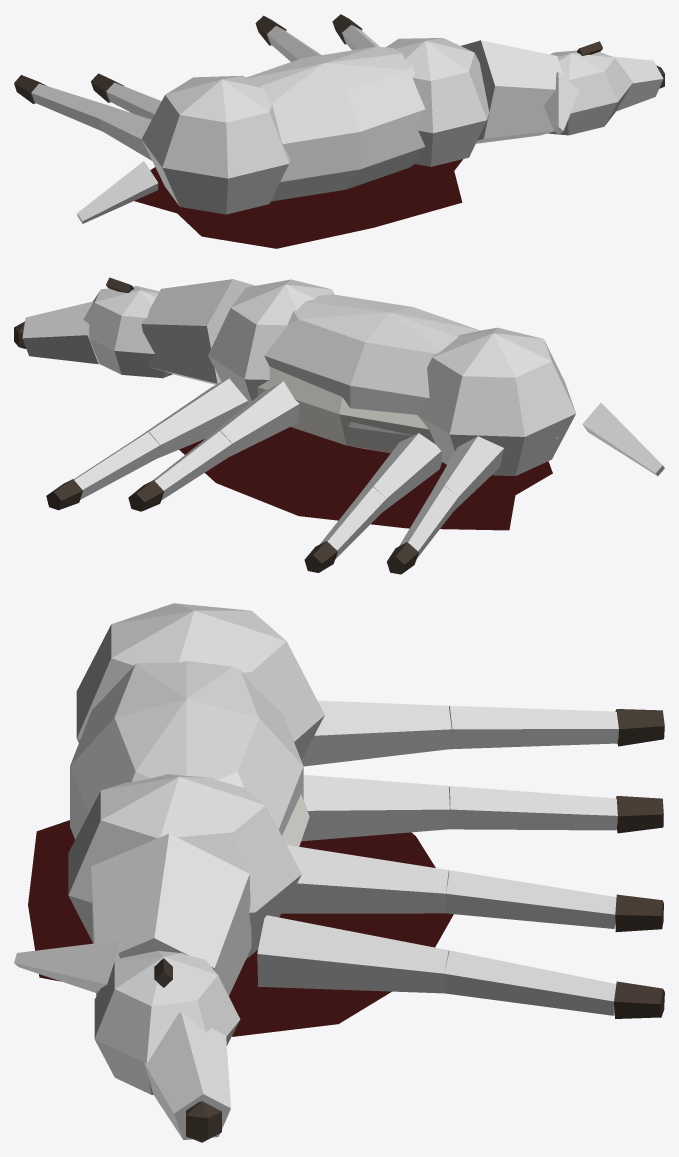
Rendered from carcass_quadruped.gltf.
3 views of the same model, one above another, from view 1: azimuth 30°, elevation 25°; view 2: azimuth 150°, elevation 25°; view 3: azimuth 270°, elevation 25° (orthographic). The views are drawn at different scales.
Visible parts, largest first — view 1: carcass_quadruped; view 2: carcass_quadruped; view 3: carcass_quadruped.
Boxes of the visible parts, left/top/right/bottom form: carcass_quadruped: left=14, top=14, right=664, bottom=248; carcass_quadruped: left=14, top=277, right=664, bottom=574; carcass_quadruped: left=14, top=603, right=664, bottom=1142.
Size of the model in its own units: 1.44 by 0.311 by 0.8478.
